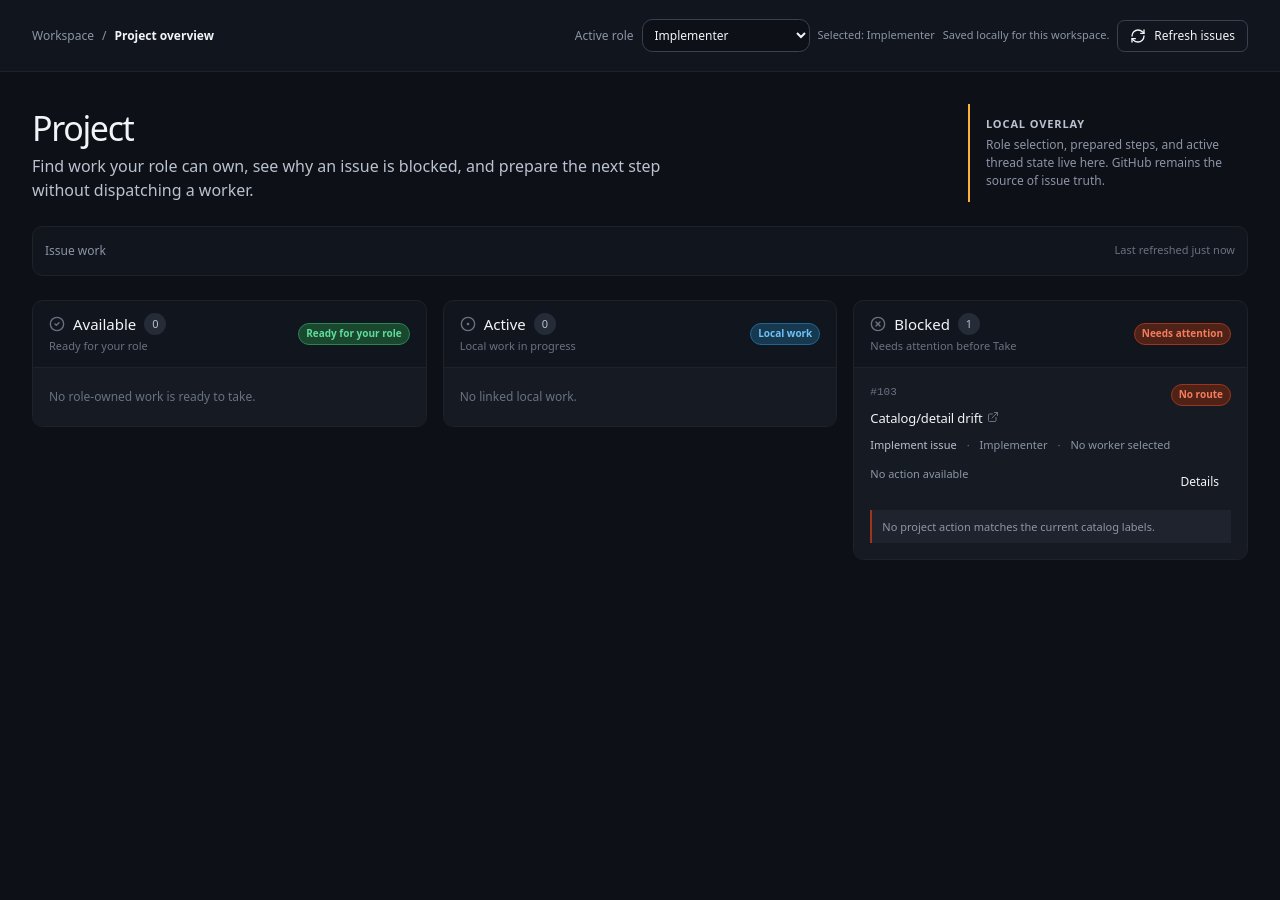
ProjectOverview › does not offer Take when core detail reports route-changed refresh required
Click the button with aria-label "View details for issue #103". click: click(1200, 482)
box: [1168,466,1231,498]
(page scrolled)
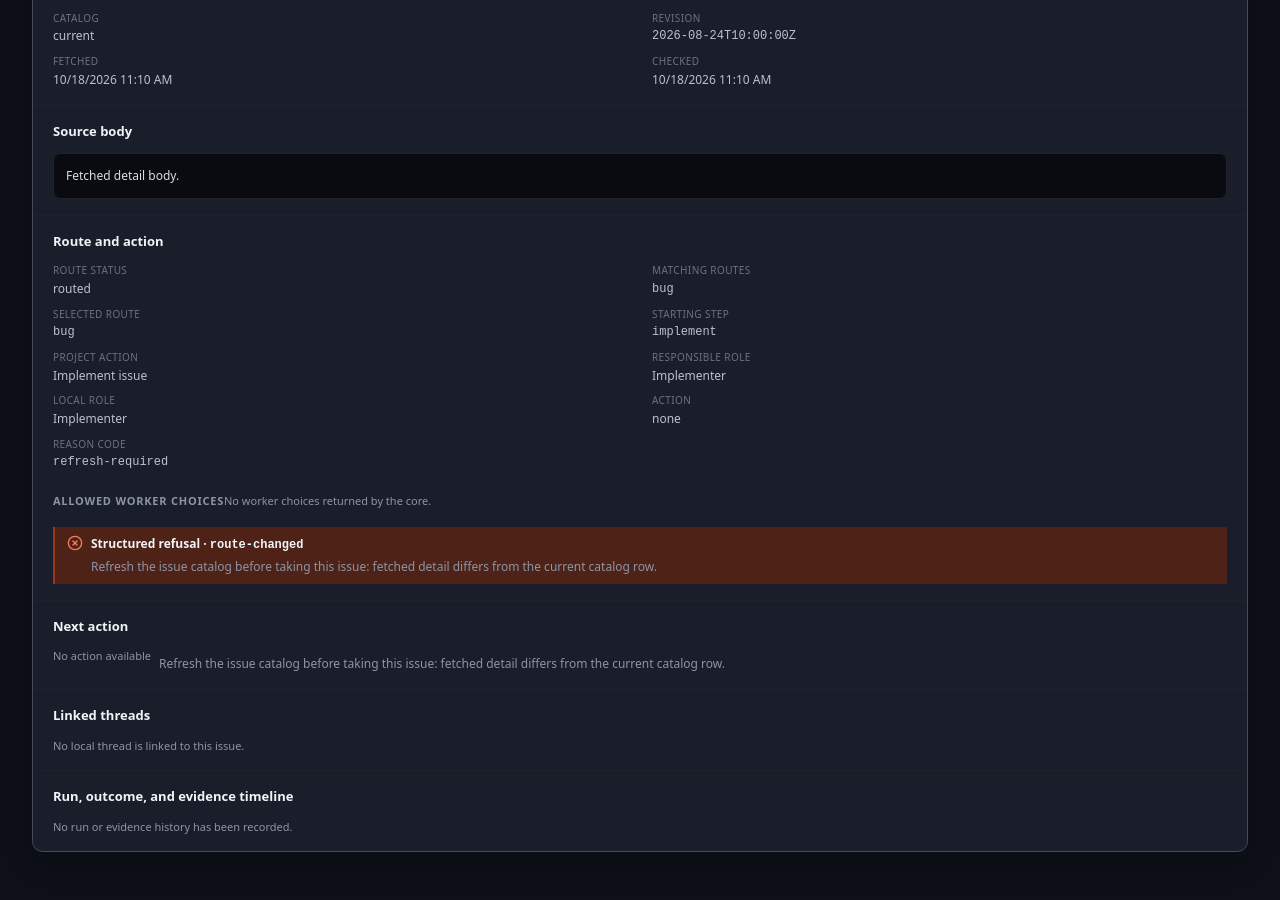
Expected: the text "Refresh the issue catalog" below "Structured refusal ·" is shown, [91,558,657,575]
Expected: the text "route-changed" is shown, [210,538,303,552]
